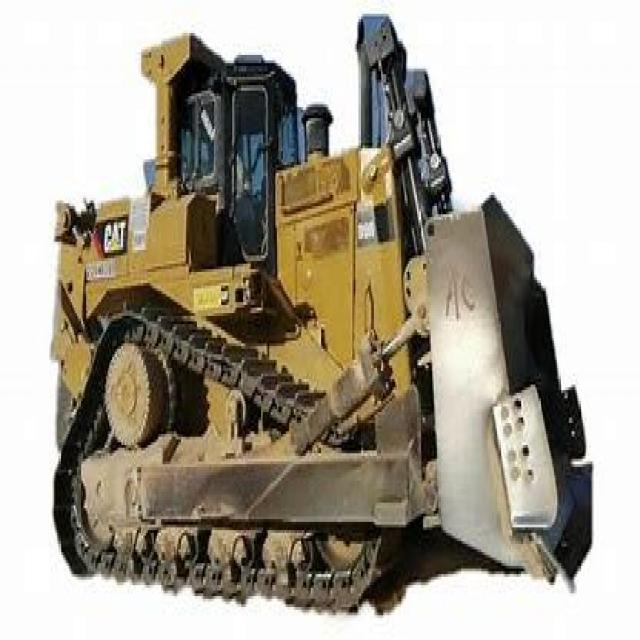Bulldozer: (43, 17, 599, 638)
